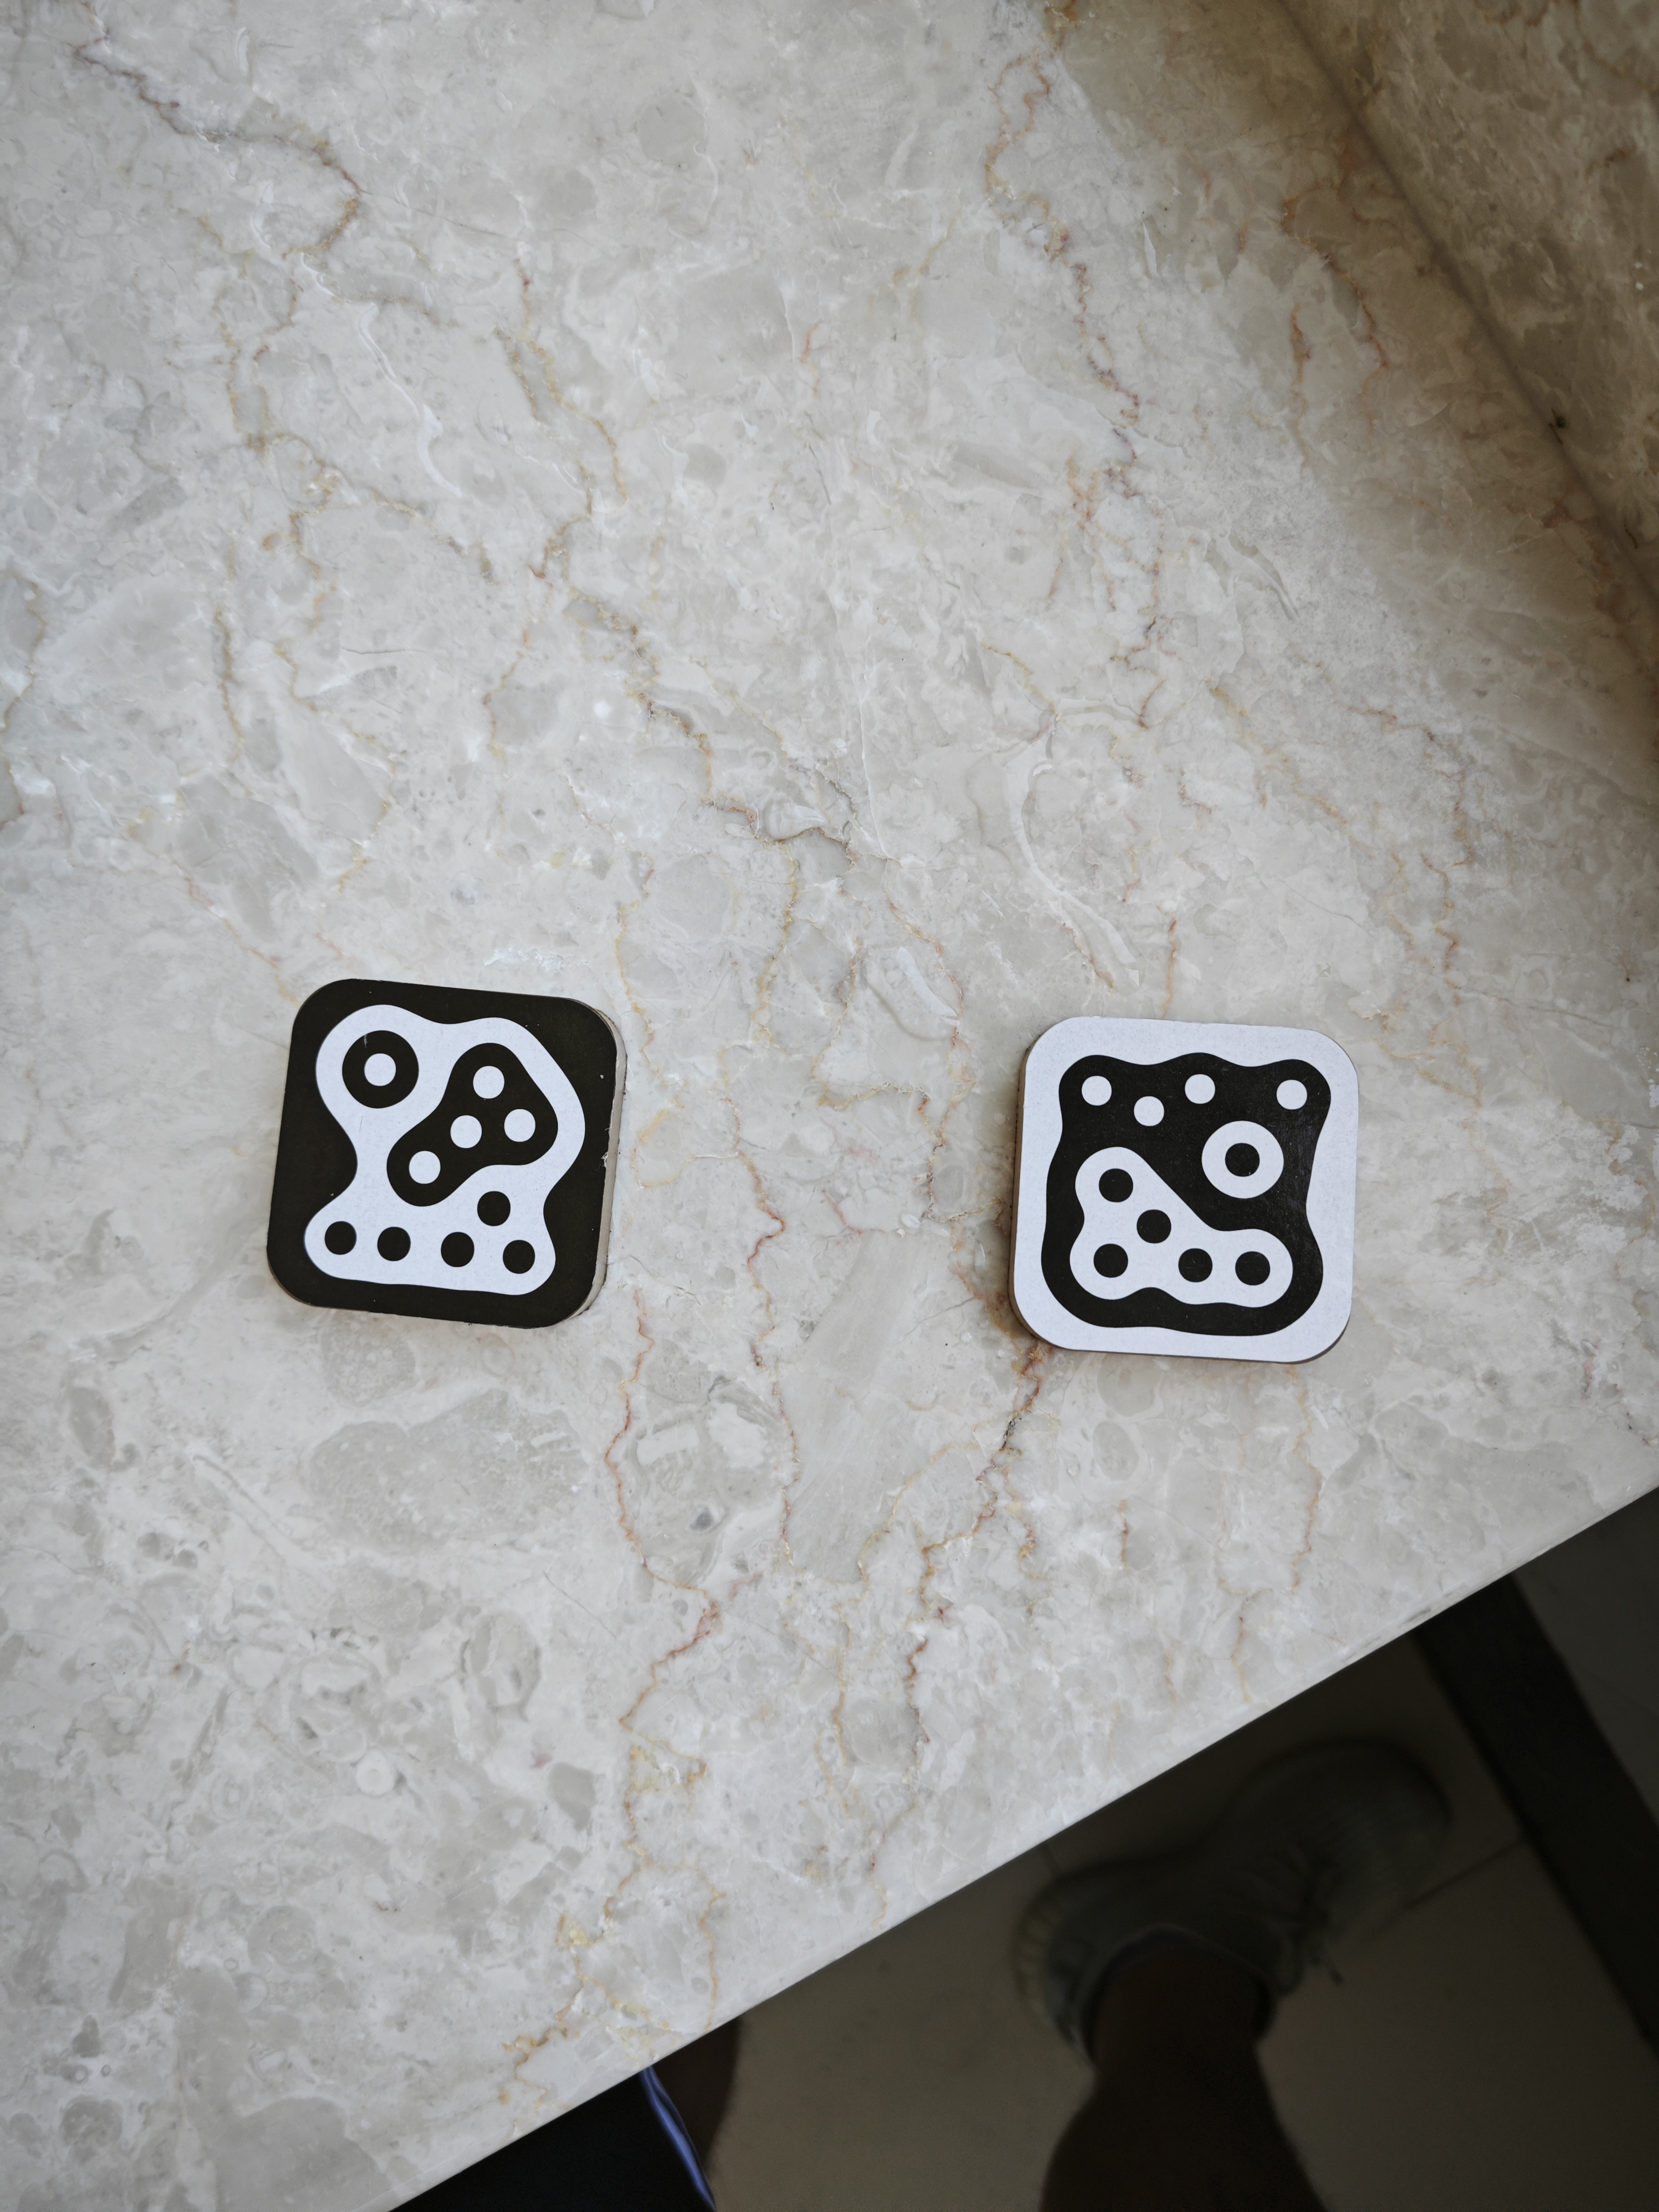mark1: (1037, 1049, 1331, 1345)
mark2: (314, 1000, 594, 1305)
